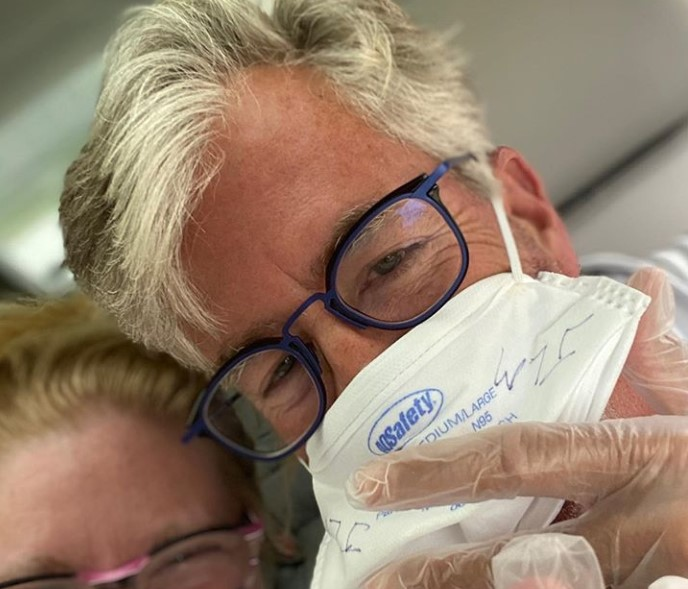face_with_mask: (135, 19, 653, 585)
